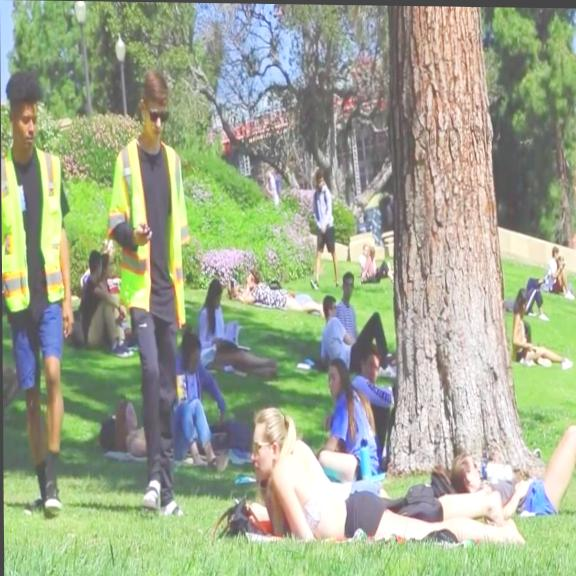safety_vest: (119, 135, 190, 324), (2, 144, 65, 314)
